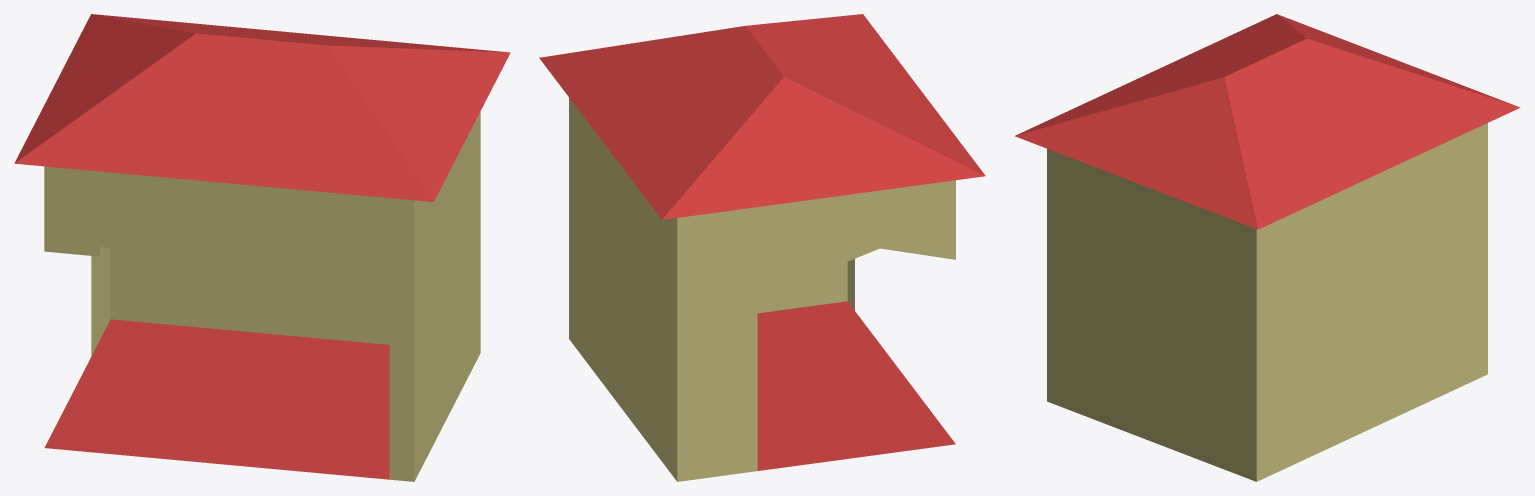
The picture shows the model from 3 angles, left to right: view 1: azimuth 30°, elevation 25°; view 2: azimuth 150°, elevation 25°; view 3: azimuth 270°, elevation 25°; orthographic projection. The views are drawn at different scales.
Parts seen in each view (by area): view 1: group_5, group_3, group_6, group_4; view 2: group_5, group_3, group_6, group_4; view 3: group_5, group_3, group_4.
Boxes of the visible parts, x1=… form: group_5: x1=44, y1=111, x2=480, y2=481; group_3: x1=14, y1=14, x2=506, y2=201; group_6: x1=44, y1=319, x2=389, y2=479; group_4: x1=14, y1=14, x2=510, y2=201; group_5: x1=569, y1=98, x2=955, y2=481; group_3: x1=539, y1=14, x2=985, y2=219; group_6: x1=757, y1=301, x2=955, y2=470; group_4: x1=541, y1=14, x2=985, y2=219; group_5: x1=1047, y1=123, x2=1487, y2=481; group_3: x1=1015, y1=14, x2=1520, y2=229; group_4: x1=1015, y1=14, x2=1517, y2=229.
Bounding box in the file's own units: 16.6 × 16.47 × 11.82.
